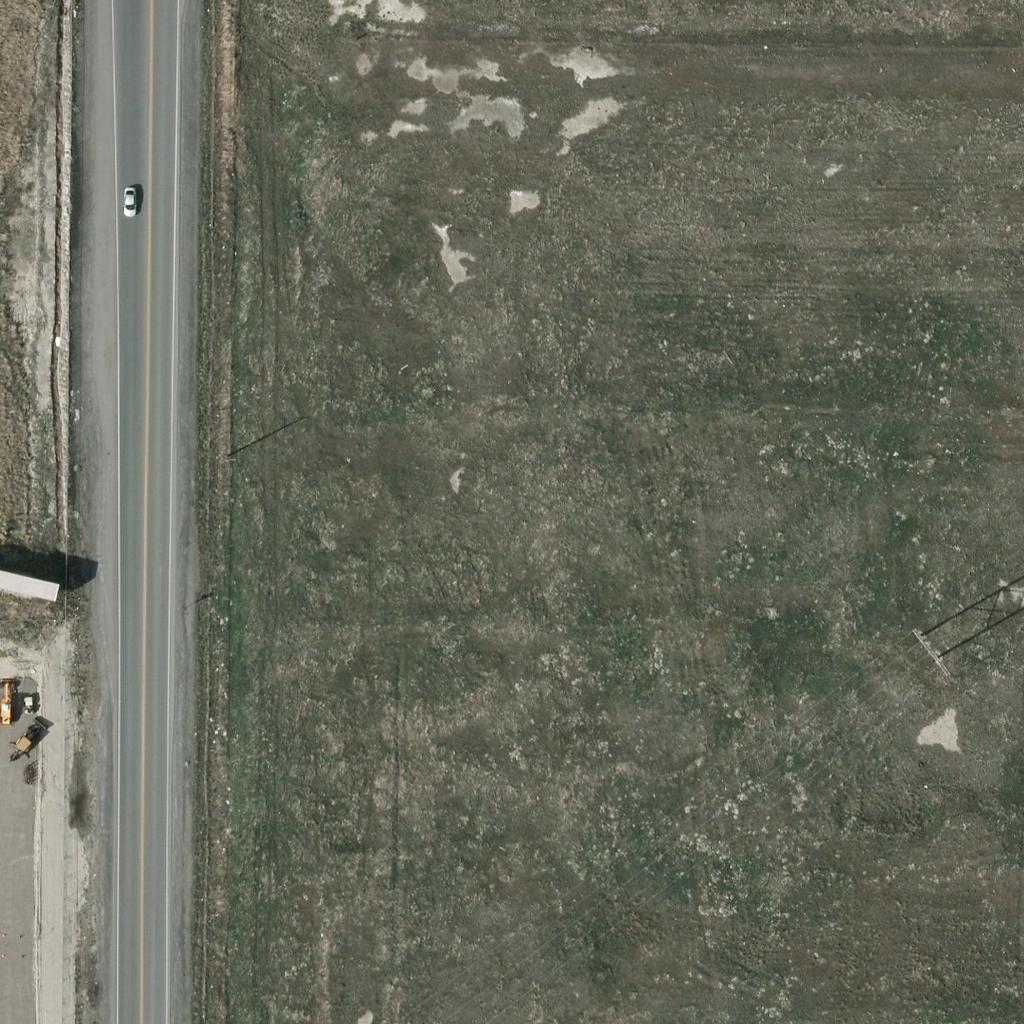car: (111, 182, 145, 216)
